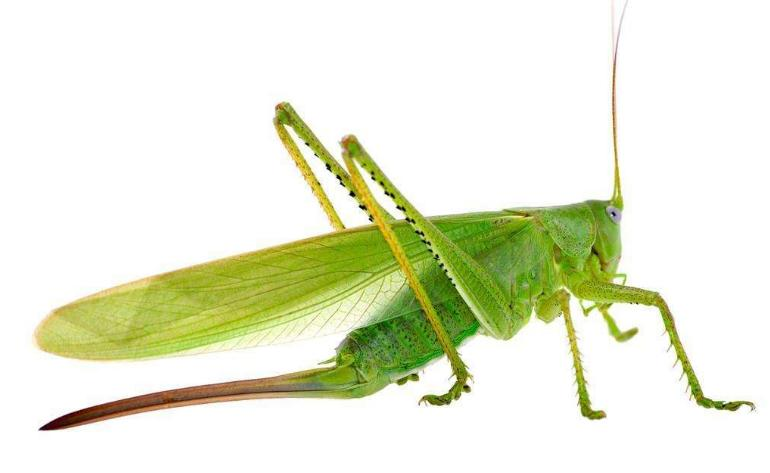huangchong: (36, 134, 742, 422)
